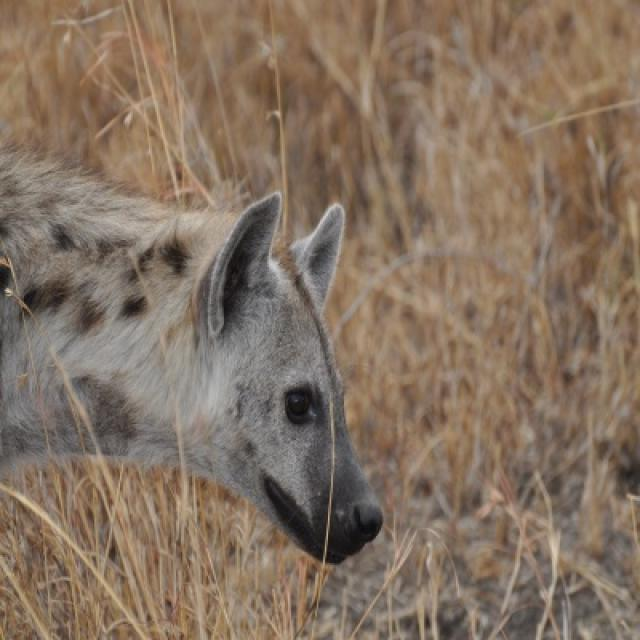hyena: (0, 152, 381, 562)
